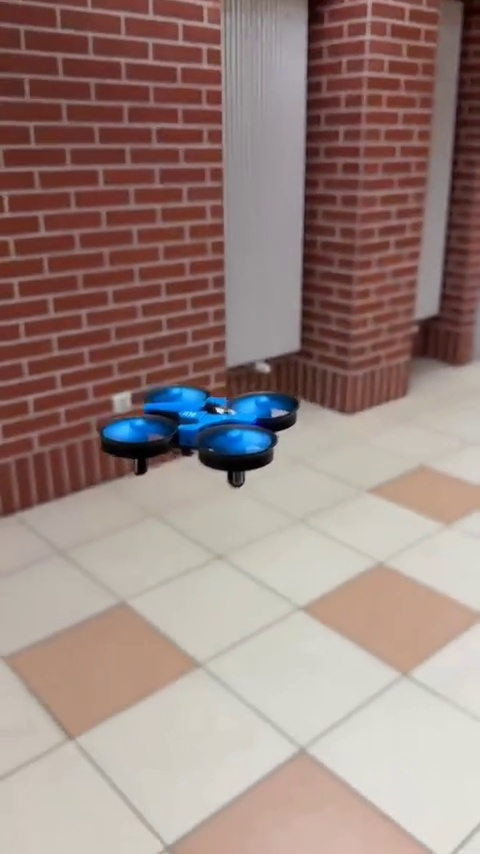drone: (95, 381, 303, 487)
